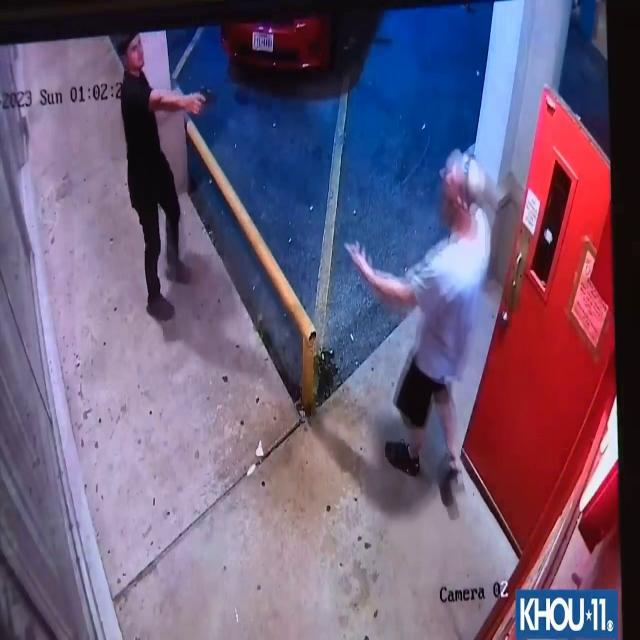normal: (348, 144, 490, 508)
penembakan: (108, 36, 222, 334)
